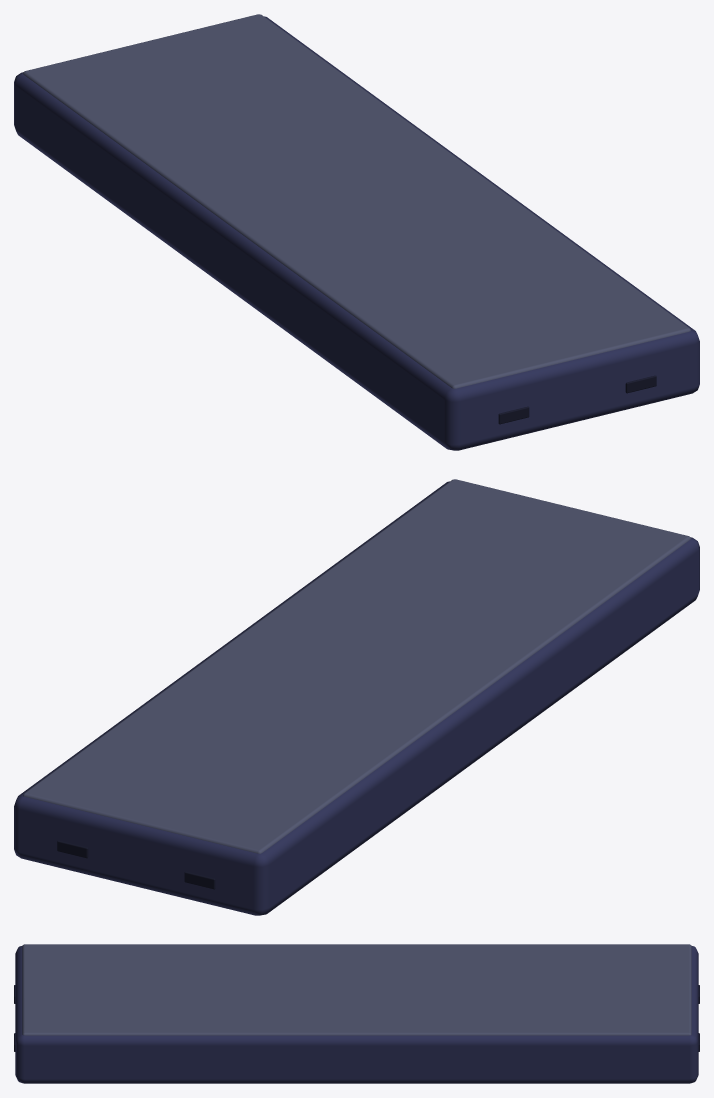
Rendered from roof.plinth.w1.d3.glb.
3 renders of one model, top to bottom at view 1: azimuth 30°, elevation 25°; view 2: azimuth 150°, elevation 25°; view 3: azimuth 270°, elevation 25°, orthographic. The views are drawn at different scales.
Visible parts, largest first — view 1: roof.plinth.w1.d3; view 2: roof.plinth.w1.d3; view 3: roof.plinth.w1.d3.
Boxes of the visible parts, x1,y1,x2,y2 form: roof.plinth.w1.d3: (14,14,699,450); roof.plinth.w1.d3: (14,479,699,915); roof.plinth.w1.d3: (14,944,699,1083).
Size of the model in its own units: 1 by 0.246 by 3.01.
